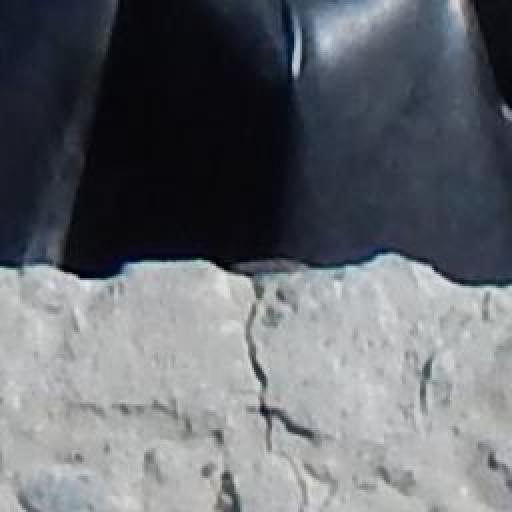spalling: (238, 285, 329, 507), (410, 347, 452, 427)
